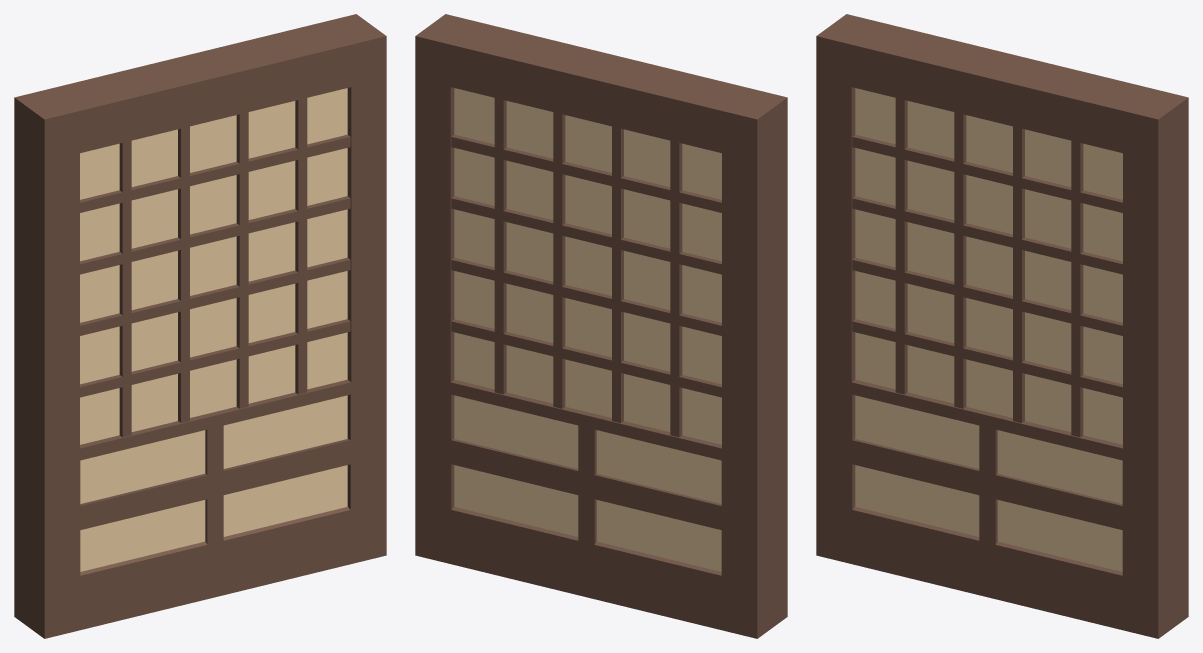
Rendered from Pintu V1.fbx.
The picture shows the model from 3 angles, left to right: view 1: azimuth 30°, elevation 25°; view 2: azimuth 150°, elevation 25°; view 3: azimuth 330°, elevation 25°; orthographic projection.
Visible parts, largest first — view 1: Pintu Ver1; view 2: Pintu Ver1; view 3: Pintu Ver1.
Part boxes in pixels (x1,y1,x2,y2): Pintu Ver1: [14, 14, 386, 638]; Pintu Ver1: [415, 14, 787, 638]; Pintu Ver1: [816, 14, 1188, 638].
Bounding box in the file's own units: 138 × 200 × 21.08.
